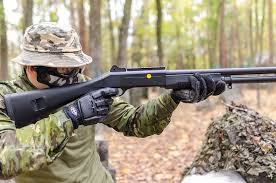gun: (3, 60, 274, 121)
